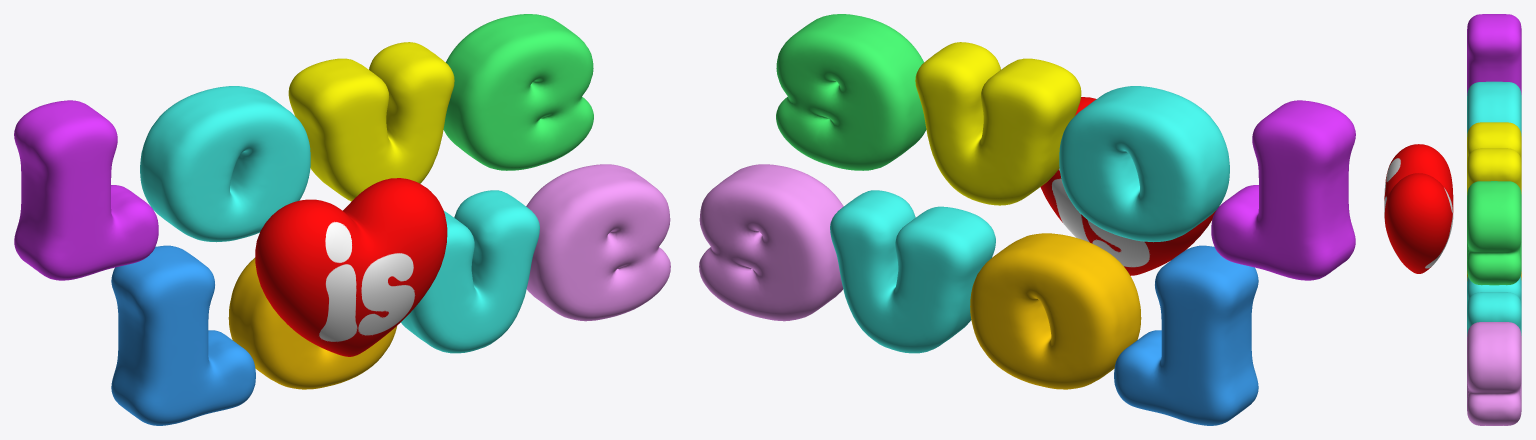
3 views of the same model, side by side, from view 1: azimuth 30°, elevation 25°; view 2: azimuth 150°, elevation 25°; view 3: azimuth 270°, elevation 25° (orthographic). The views are drawn at different scales.
Visible parts, largest first — view 1: BASE_HEART_1, Generador_Malla_Volumen_remesh_2, Generador_Malla_Volumen_remesh_4, Generador_Malla_Volumen_remesh, Generador_Malla_Volumen_remesh_5, Generador_Malla_Volumen_remesh_3, Generador_Malla_Volumen_remesh_8, Generador_Malla_Volumen_remesh_7, Generador_Malla_Volumen_remesh_6; view 2: Generador_Malla_Volumen_remesh_2, Generador_Malla_Volumen_remesh_6, Generador_Malla_Volumen_remesh_3, Generador_Malla_Volumen_remesh_7, Generador_Malla_Volumen_remesh_4, Generador_Malla_Volumen_remesh, Generador_Malla_Volumen_remesh_5, Generador_Malla_Volumen_remesh_8, BASE_HEART_1; view 3: BASE_HEART_1, Generador_Malla_Volumen_remesh_4, Generador_Malla_Volumen_remesh_8, Generador_Malla_Volumen_remesh, Generador_Malla_Volumen_remesh_3, Generador_Malla_Volumen_remesh_2, Generador_Malla_Volumen_remesh_7.
Part boxes in pixels (bbox=[...]): BASE_HEART_1: bbox=[255, 178, 447, 356]; Generador_Malla_Volumen_remesh_2: bbox=[140, 86, 310, 242]; Generador_Malla_Volumen_remesh_4: bbox=[443, 14, 593, 170]; Generador_Malla_Volumen_remesh: bbox=[14, 100, 158, 280]; Generador_Malla_Volumen_remesh_5: bbox=[111, 245, 255, 425]; Generador_Malla_Volumen_remesh_3: bbox=[288, 42, 454, 201]; Generador_Malla_Volumen_remesh_8: bbox=[526, 164, 670, 321]; Generador_Malla_Volumen_remesh_7: bbox=[401, 190, 539, 353]; Generador_Malla_Volumen_remesh_6: bbox=[228, 257, 396, 389]; Generador_Malla_Volumen_remesh_2: bbox=[1059, 86, 1229, 242]; Generador_Malla_Volumen_remesh_6: bbox=[970, 233, 1141, 389]; Generador_Malla_Volumen_remesh_3: bbox=[915, 42, 1081, 205]; Generador_Malla_Volumen_remesh_7: bbox=[830, 190, 995, 353]; Generador_Malla_Volumen_remesh_4: bbox=[776, 14, 926, 170]; Generador_Malla_Volumen_remesh: bbox=[1211, 100, 1355, 280]; Generador_Malla_Volumen_remesh_5: bbox=[1114, 245, 1258, 425]; Generador_Malla_Volumen_remesh_8: bbox=[699, 164, 843, 321]; BASE_HEART_1: bbox=[1040, 97, 1215, 275]; BASE_HEART_1: bbox=[1384, 144, 1453, 273]; Generador_Malla_Volumen_remesh_4: bbox=[1467, 181, 1521, 285]; Generador_Malla_Volumen_remesh_8: bbox=[1467, 322, 1521, 425]; Generador_Malla_Volumen_remesh: bbox=[1467, 14, 1521, 95]; Generador_Malla_Volumen_remesh_3: bbox=[1467, 122, 1521, 194]; Generador_Malla_Volumen_remesh_2: bbox=[1467, 81, 1521, 136]; Generador_Malla_Volumen_remesh_7: bbox=[1467, 276, 1521, 336].
Bounding box in the file's own units: 6.12 × 3.03 × 1.69.
8 materials, 1 textured.
